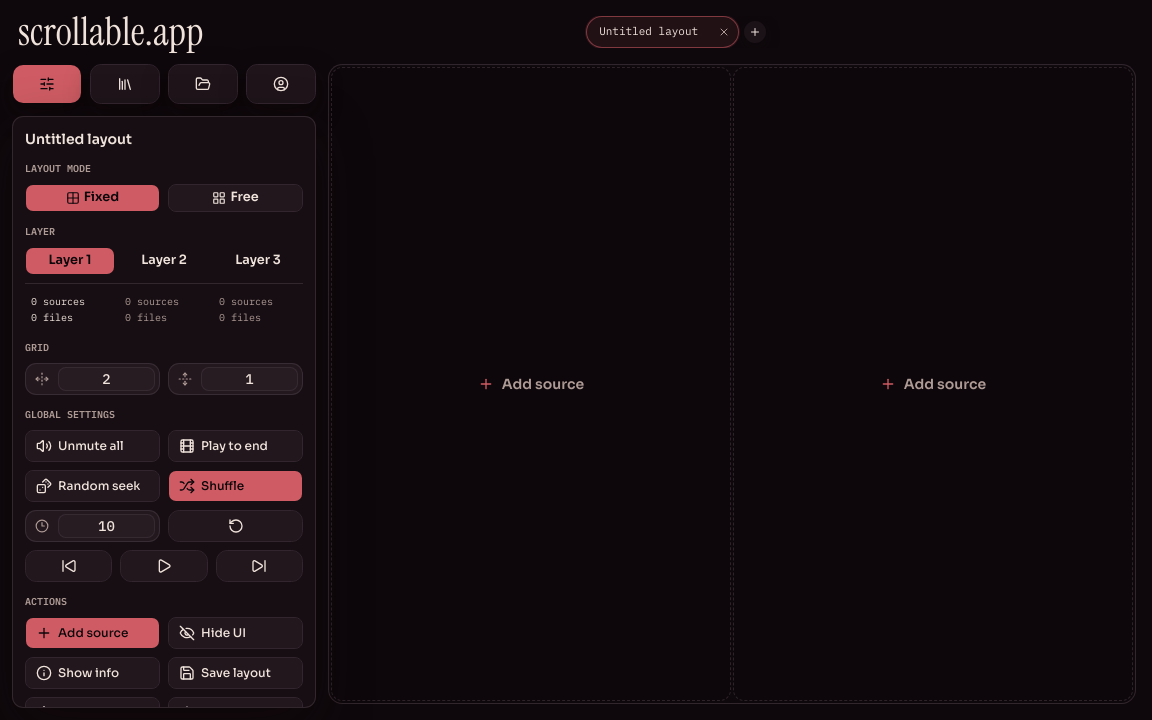
Test: FeedWorkbench account state › opens a signin auth surface without password confirmation
Step 1. Click the button named "Sign in" → [281, 84], box 246,64 -> 316,104
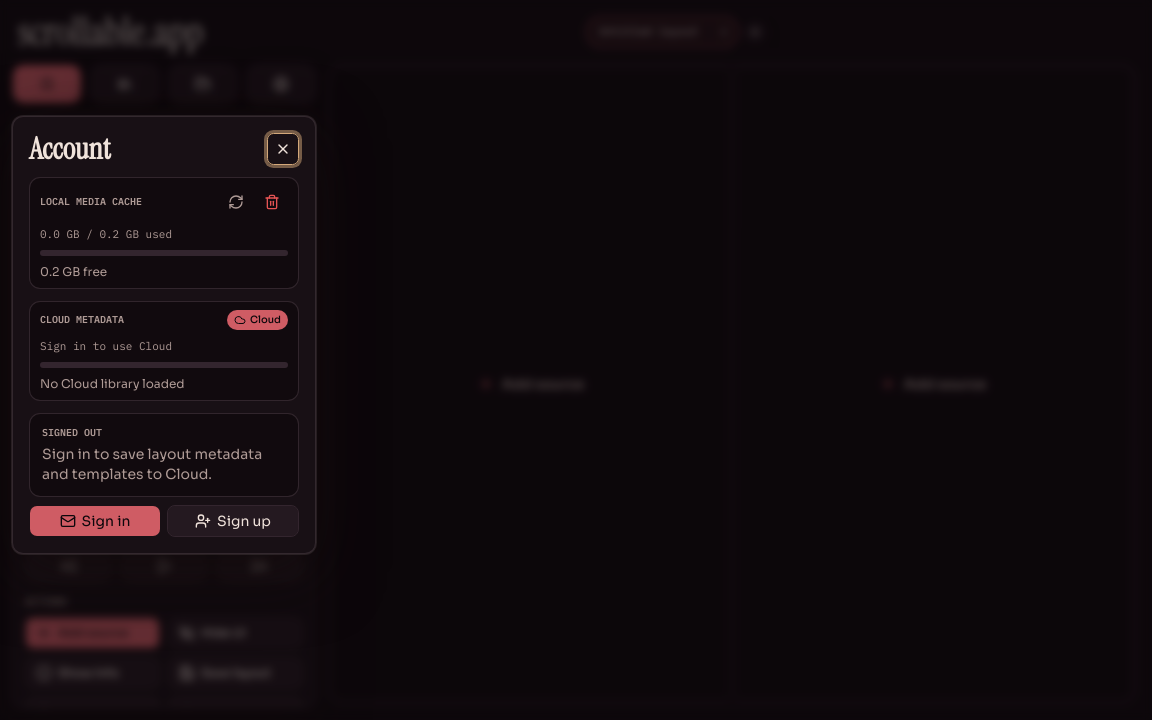
expect the button "Sign in" is shown: met
Step 2. Click the button "Sign in" → [95, 521], box 29,505 -> 161,537
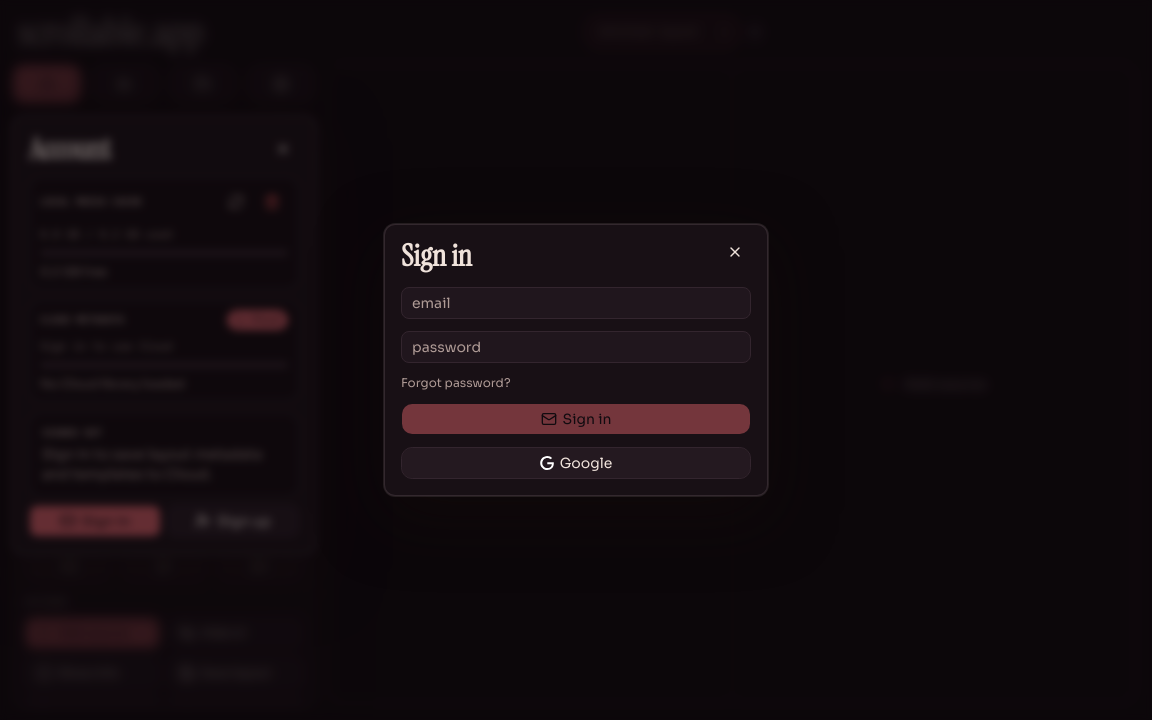
expect the field labelled "email" is shown: met, box 401,287 -> 751,319
expect the password field labelled "password" is shown: met, box 401,331 -> 751,363
